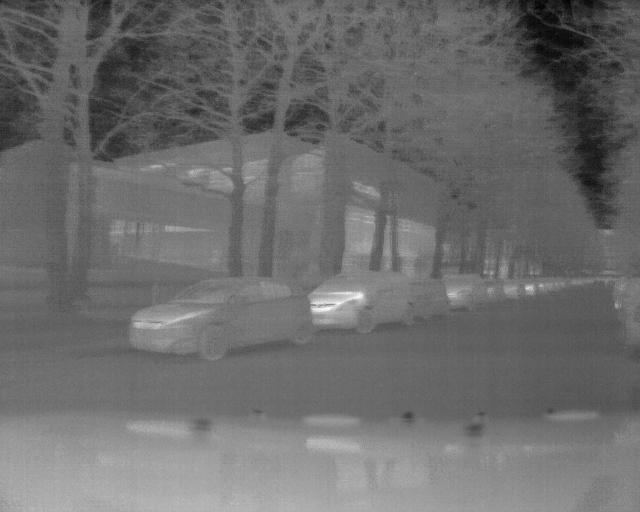car: (126, 274, 318, 360), (321, 269, 415, 335)
